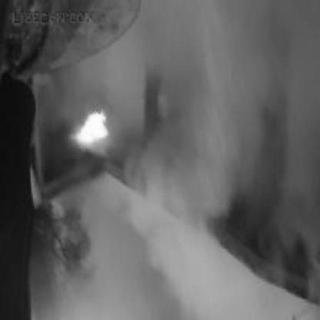Fire: (67, 105, 119, 157)
Smoke: (130, 23, 300, 319)
